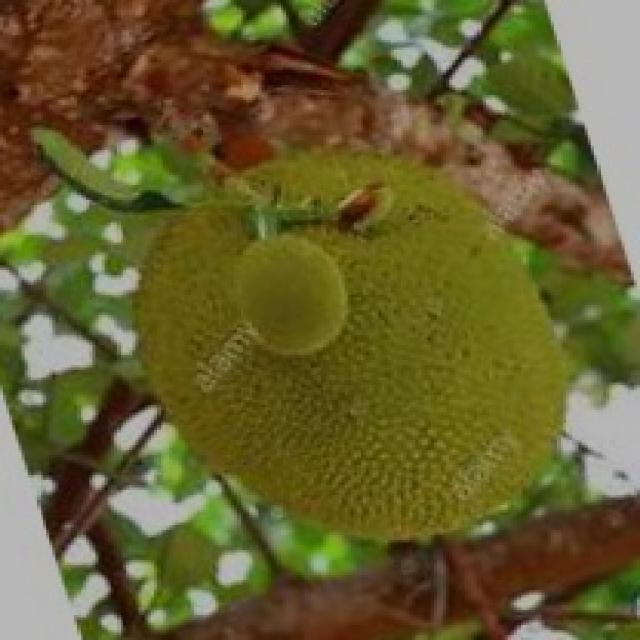Fruit: (222, 153, 600, 565)
